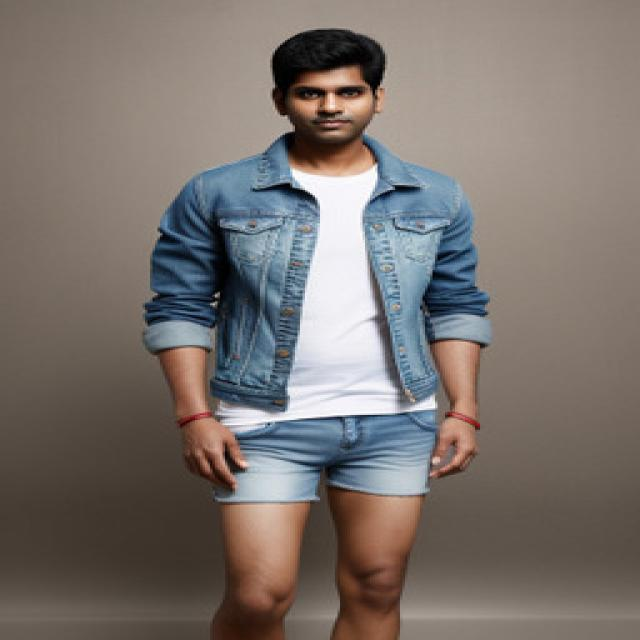Ai human 2: (133, 15, 525, 640)
